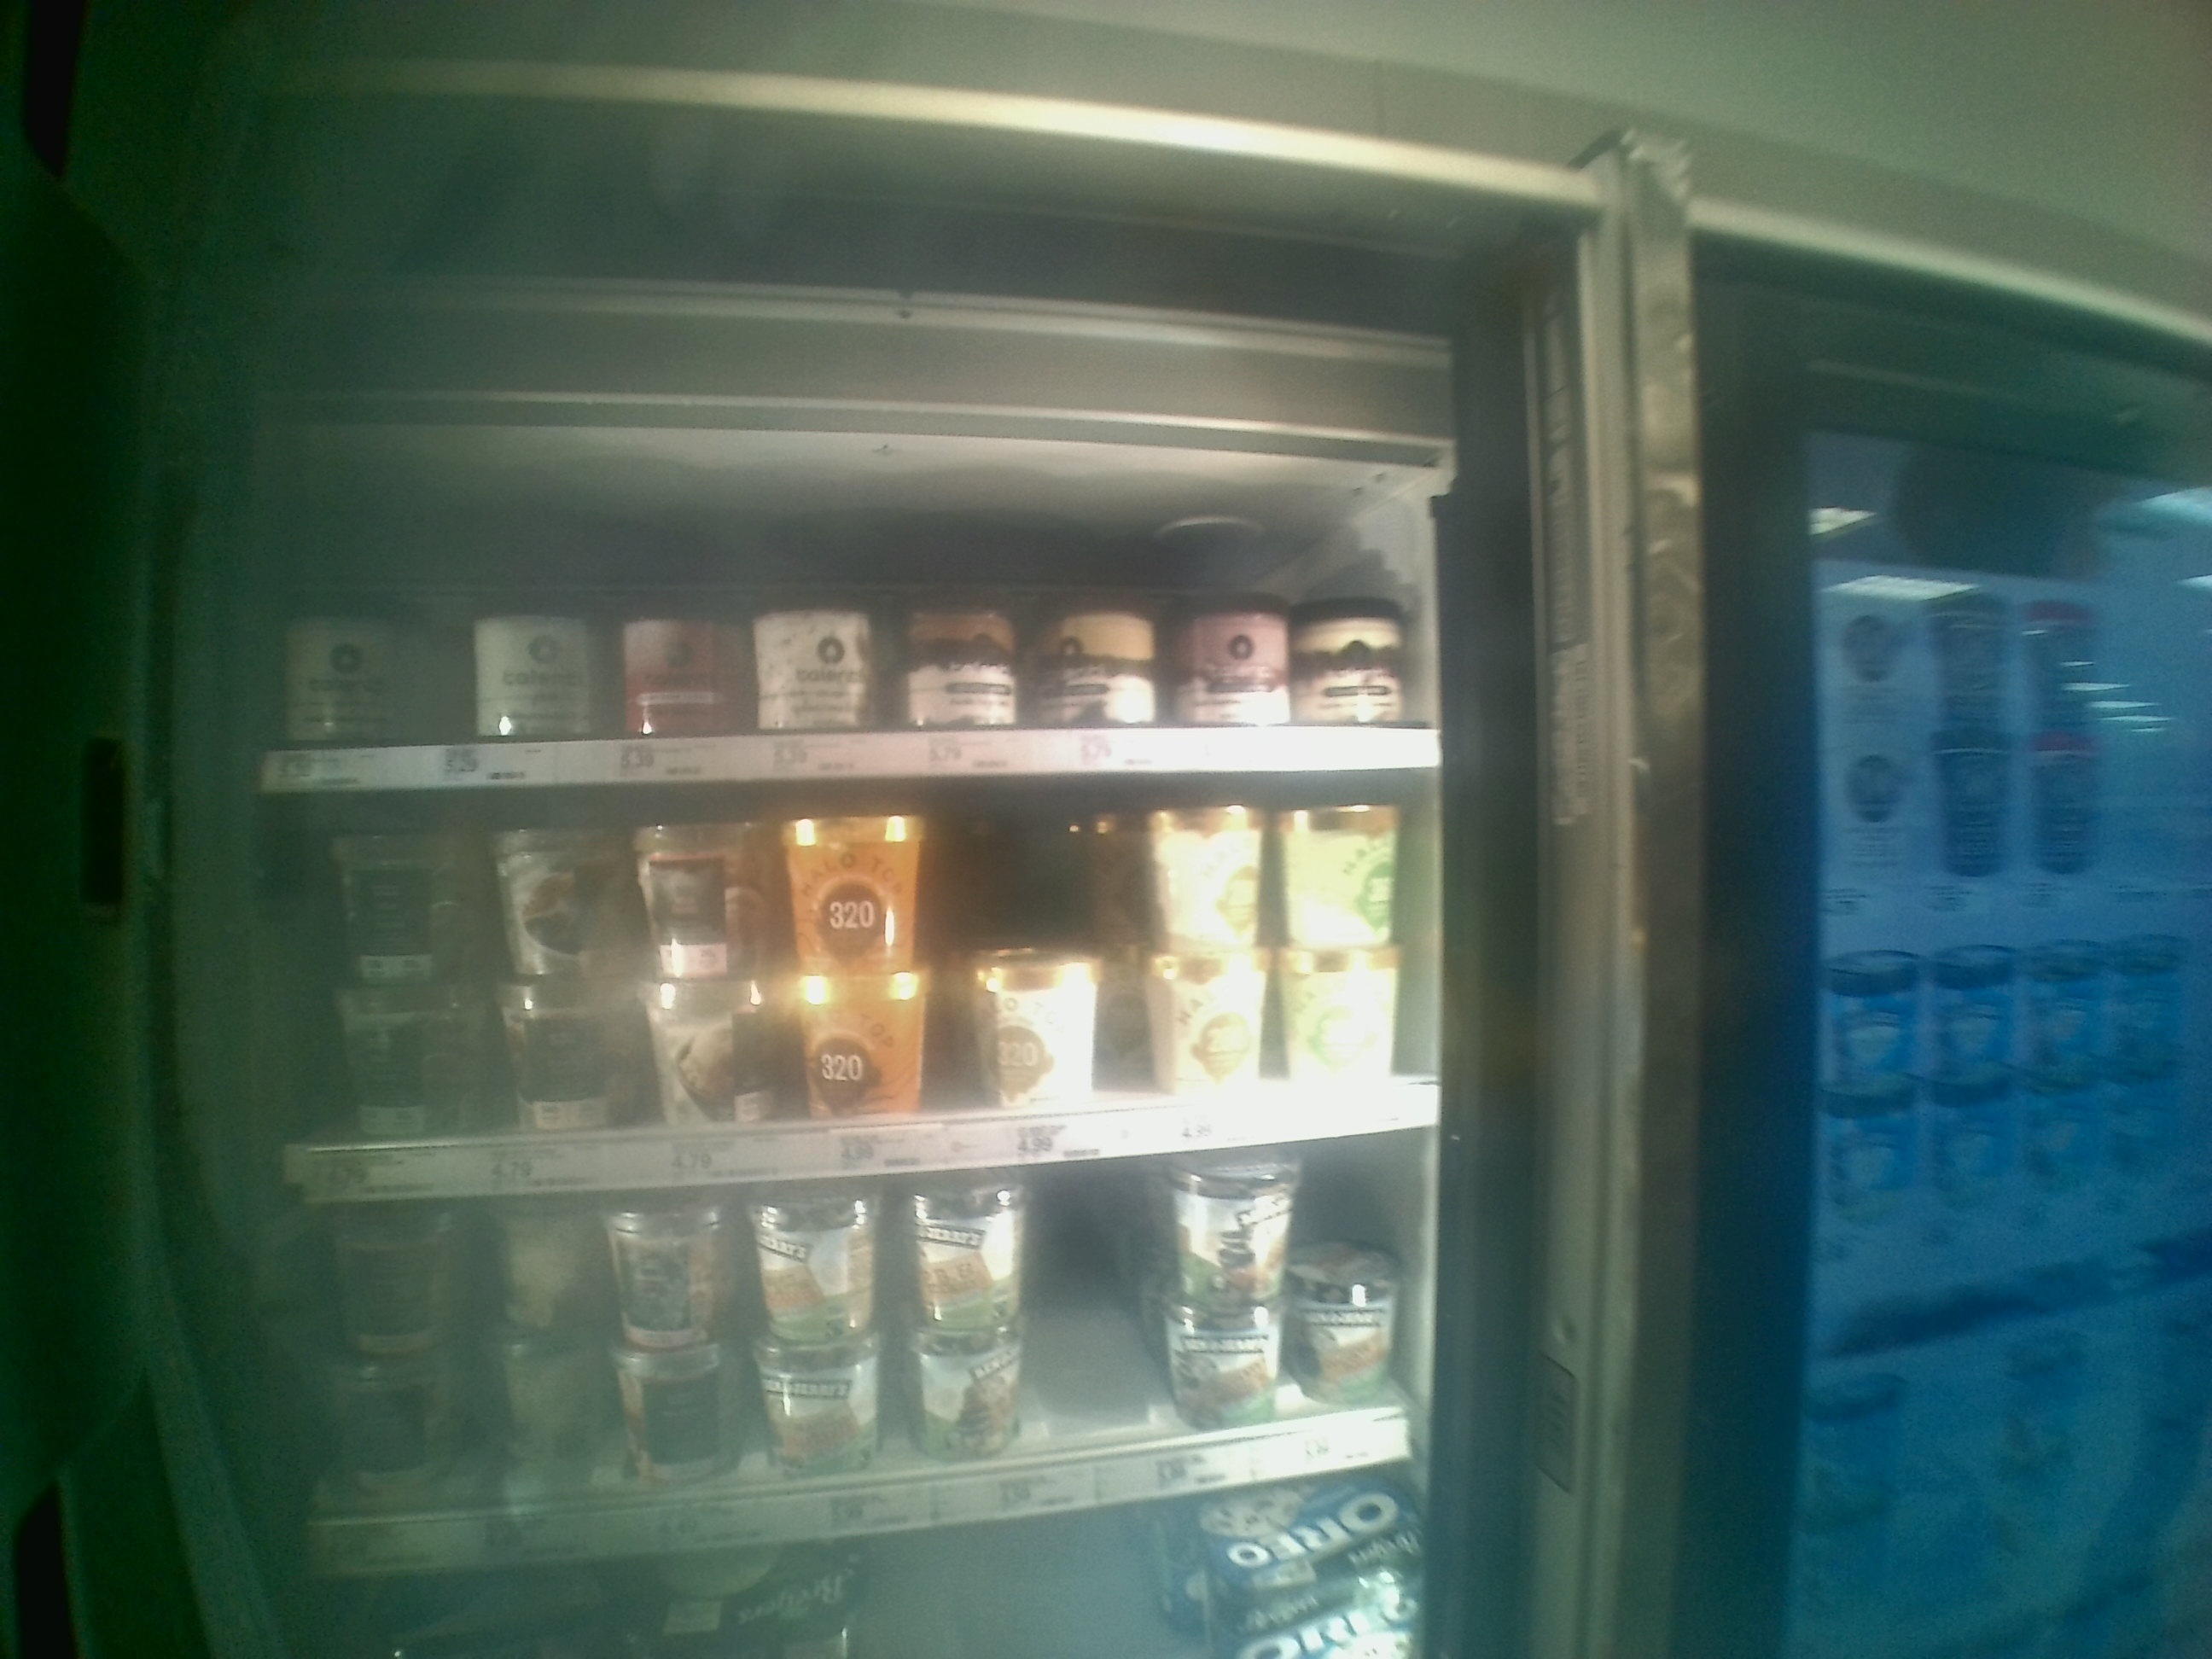ice-cream-shelf: (265, 793, 1435, 1192), (266, 465, 1446, 779)
